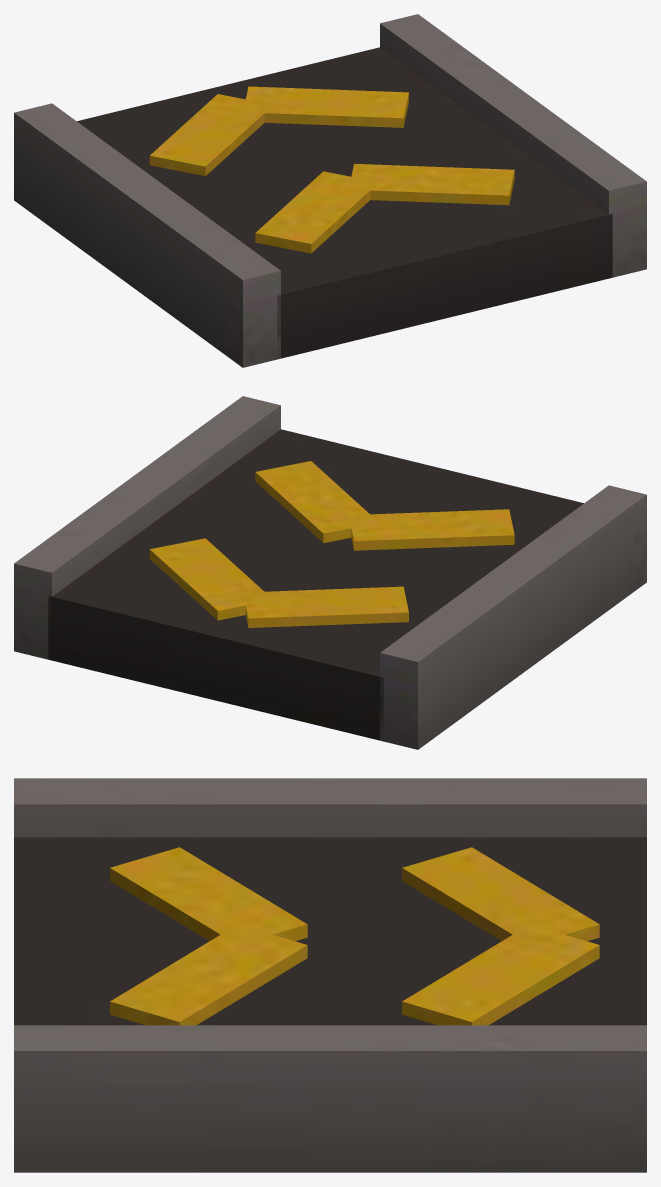
The model's file is transport-belt.glb.
3 renders of one model, top to bottom at view 1: azimuth 30°, elevation 25°; view 2: azimuth 150°, elevation 25°; view 3: azimuth 270°, elevation 25°, orthographic. The views are drawn at different scales.
Parts seen in each view (by area): view 1: transport-belt; view 2: transport-belt; view 3: transport-belt.
Boxes of the visible parts, bbox=[...] form: transport-belt: bbox=[14, 14, 646, 367]; transport-belt: bbox=[14, 396, 646, 749]; transport-belt: bbox=[14, 778, 646, 1172].
Size of the model in its own units: 0.265 by 0.055 by 0.26.
Materials: 1 (1 with a texture image).
